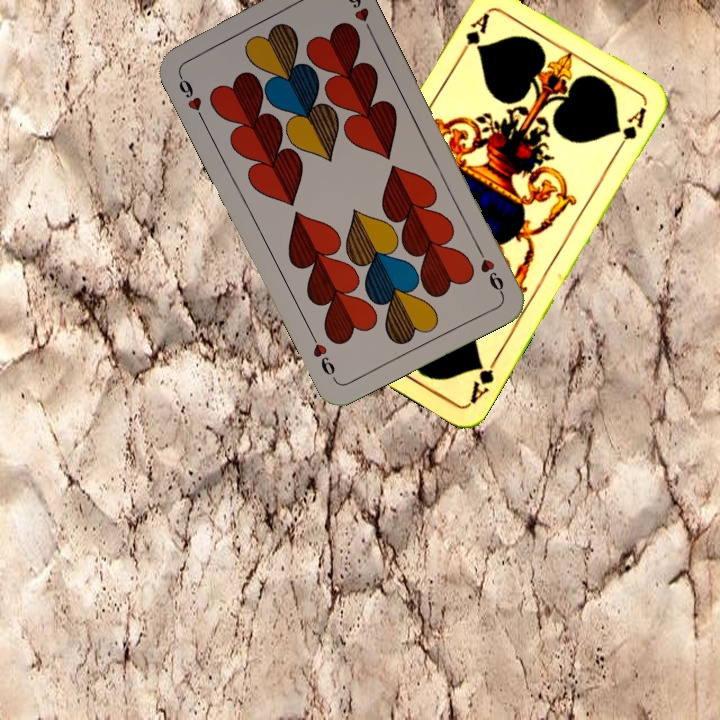GA: (454, 9, 493, 61), (466, 352, 501, 407)
H9: (473, 242, 507, 297), (174, 68, 207, 124)
